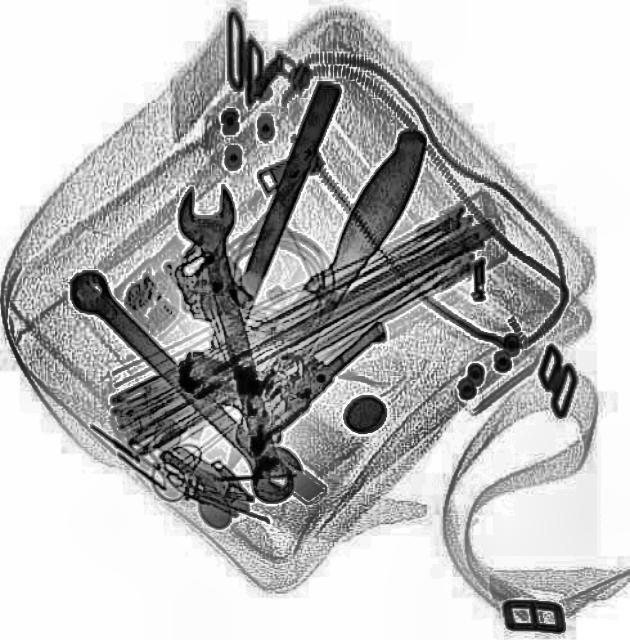Gun: (162, 247, 392, 459)
Knife: (203, 120, 443, 474), (180, 77, 340, 441)
Wrench: (53, 255, 311, 507), (167, 178, 309, 506)
